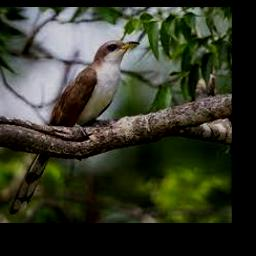Cuckoo: (9, 40, 141, 215)
